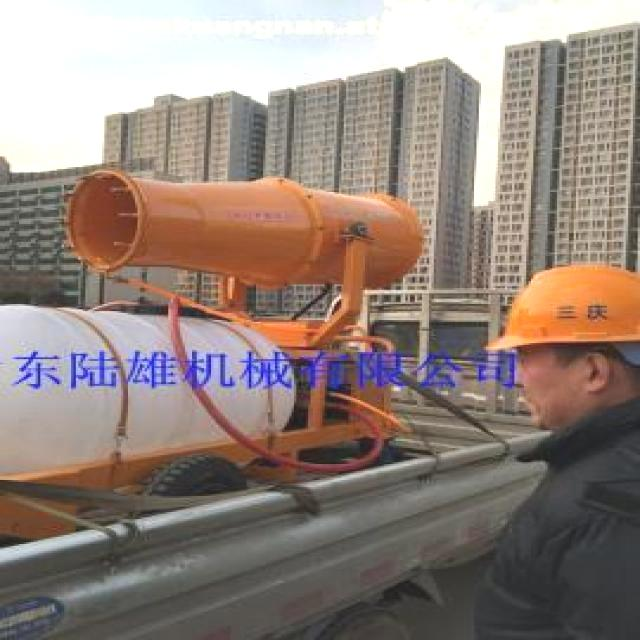face_nomask: (501, 345, 558, 429)
head_helmet: (487, 259, 640, 359)
